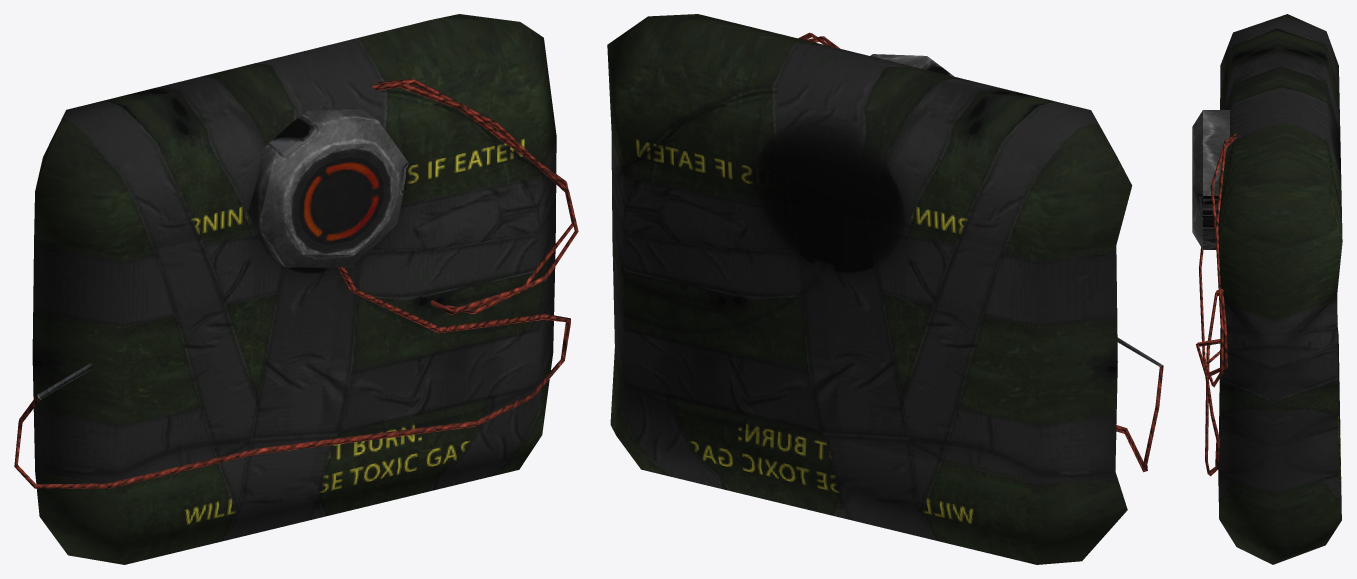
Rendered from t6_wpn_c4_stow_LOD1.obj.
3 views of the same model, side by side, from view 1: azimuth 30°, elevation 25°; view 2: azimuth 150°, elevation 25°; view 3: azimuth 270°, elevation 25° (orthographic). The views are drawn at different scales.
Visible parts, largest first — view 1: mtl_t6_wpn_c4; view 2: mtl_t6_wpn_c4; view 3: mtl_t6_wpn_c4.
Part boxes in pixels (x1,y1,x2,y2): mtl_t6_wpn_c4: [14, 14, 578, 564]; mtl_t6_wpn_c4: [607, 14, 1163, 564]; mtl_t6_wpn_c4: [1192, 14, 1342, 564].
Bounding box in the file's own units: 34.31 × 27.94 × 9.76.
